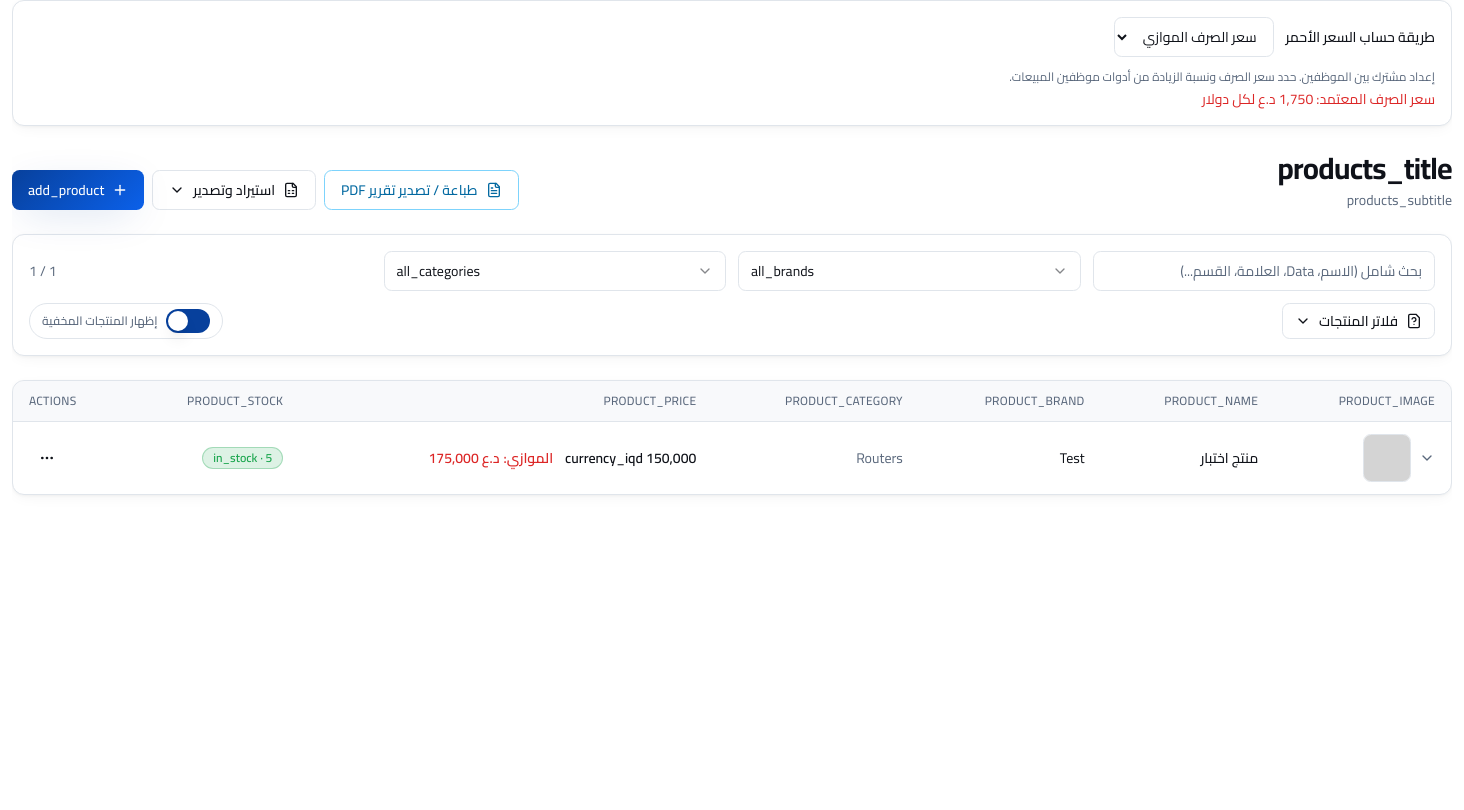
Test case: admin product action menu › shows the parallel conversion next to each expanded selling tier
The image size is (1464, 810).
Click the text "منتج اختبار": [1229, 458] box [1200,448,1258,468]
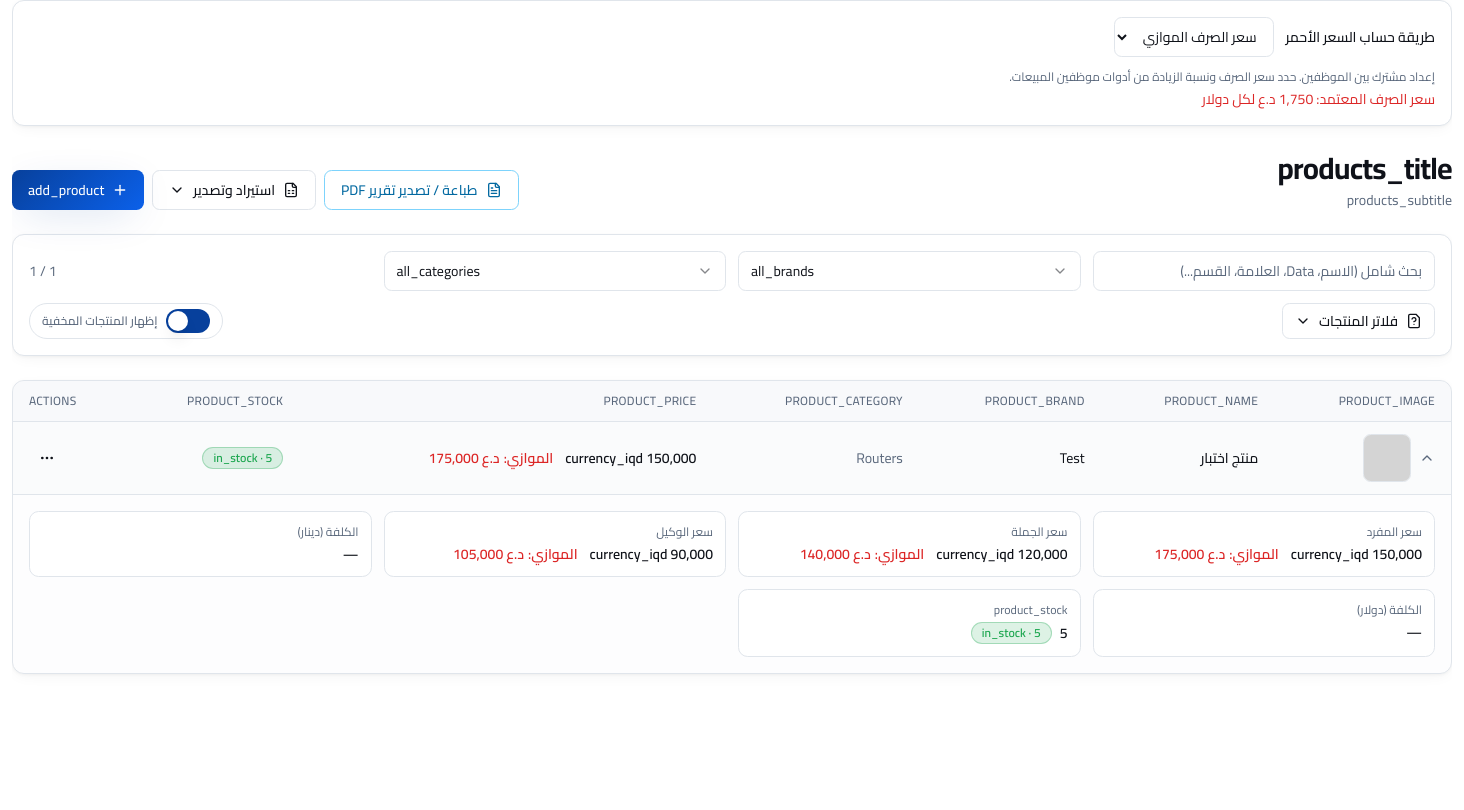
Expected: the text "175,000 د.ع" is shown 2 times, [428,448,500,468]; [1154,544,1225,564]
Expected: the text "140,000 د.ع" is shown, [800,544,871,564]
Expected: the text "105,000 د.ع" is shown, [453,544,524,564]
